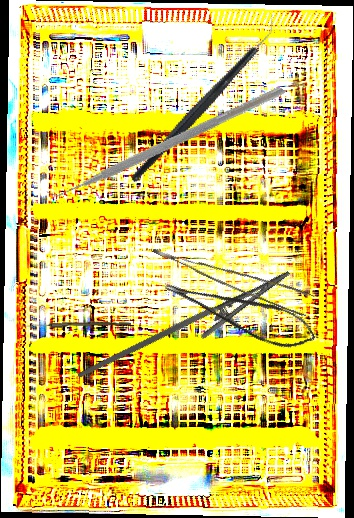Chopper: (37, 5, 286, 272), (94, 12, 314, 184)
Micro Scissor: (162, 257, 322, 362)
Needle Holder: (76, 245, 301, 418)
Surgical Spoon: (20, 320, 132, 329)
Tissue Forceps: (152, 223, 315, 325)
